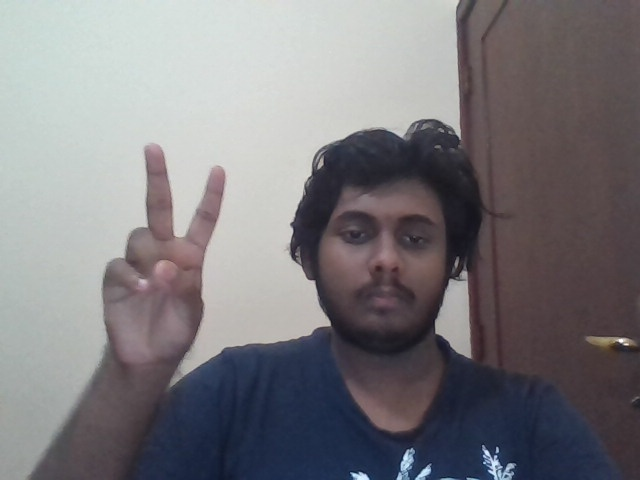peace: (102, 143, 226, 367)
